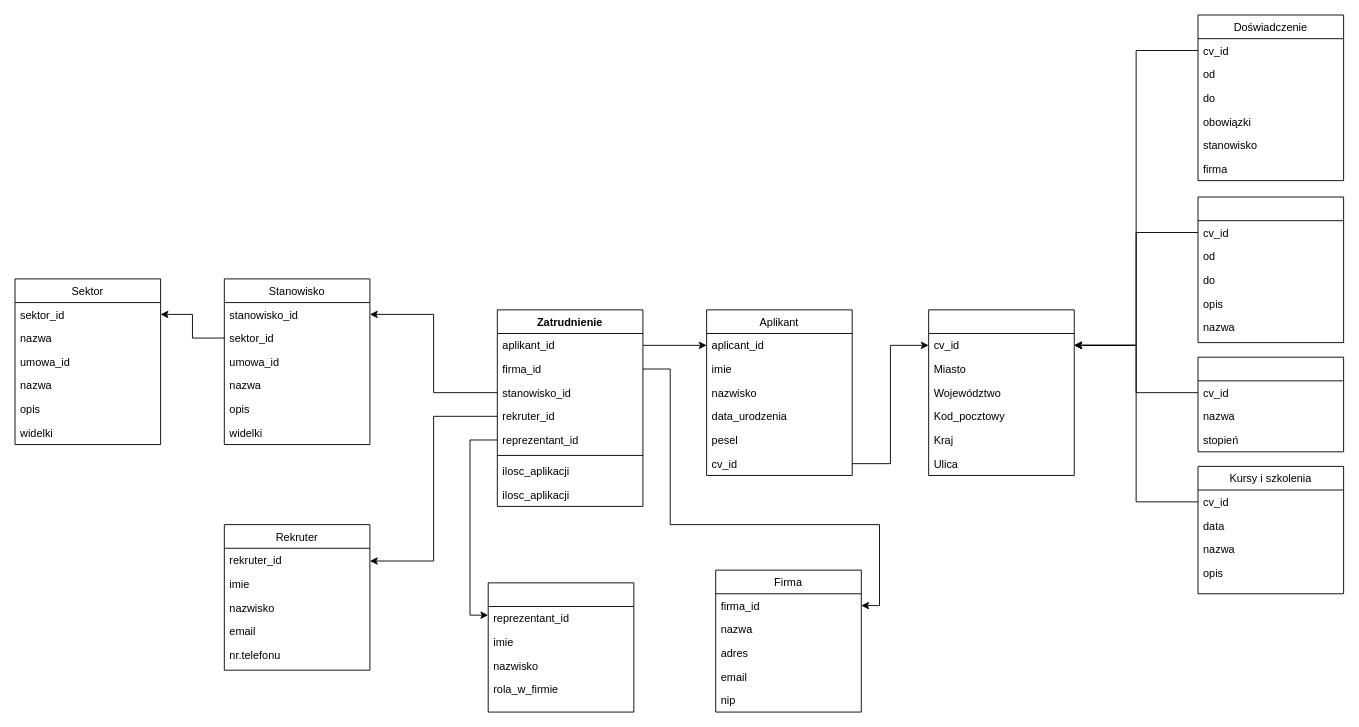
Image size: 1359x727. Some labels were removed from this diagram. Each missing label, with the box of its shape:
CV: (928, 309, 1074, 475)
Reprezentant_firmy: (487, 582, 634, 712)
Umiejętności: (1197, 356, 1344, 452)
Wykształcenie: (1197, 196, 1344, 343)
